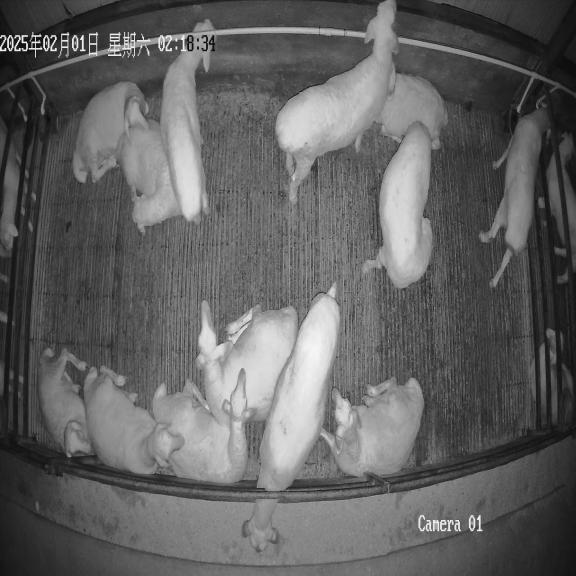eating: (244, 283, 340, 553)
lying: (196, 300, 298, 423), (153, 374, 252, 484), (83, 366, 183, 474), (321, 378, 424, 477), (72, 82, 148, 183), (117, 119, 180, 233), (37, 348, 92, 457), (375, 73, 448, 150)
stand: (275, 0, 398, 204), (479, 107, 549, 287), (362, 123, 433, 288), (160, 45, 212, 223)
